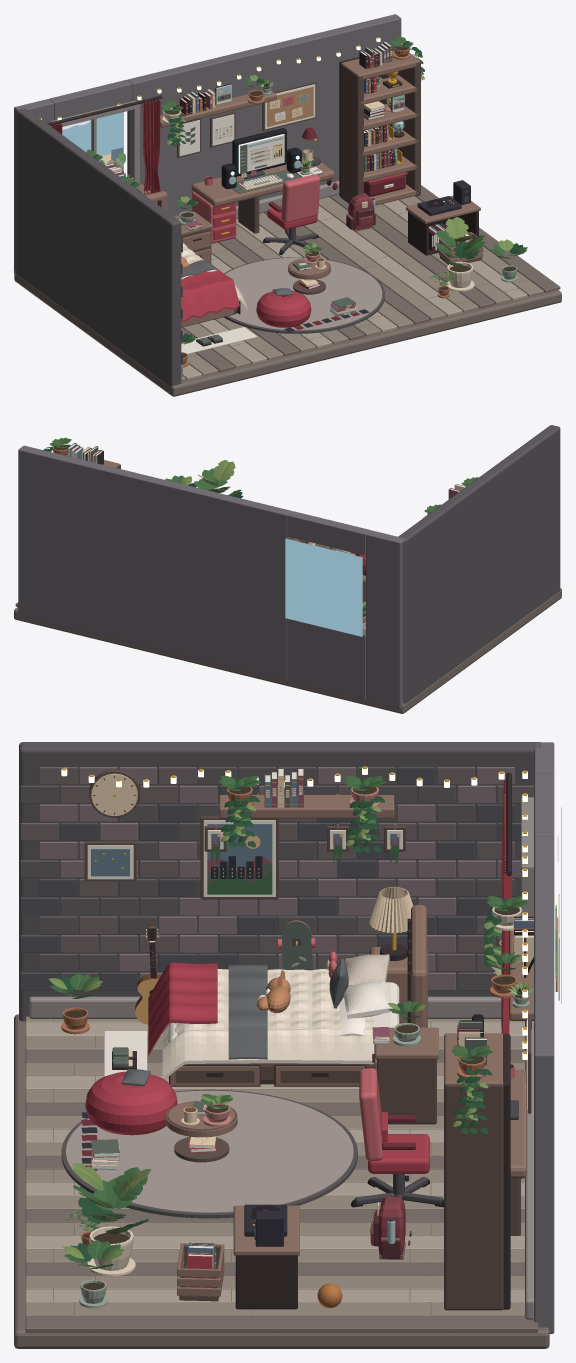
File: urbano-room.glb
The picture shows the model from 3 angles, top to bottom: view 1: azimuth 30°, elevation 25°; view 2: azimuth 150°, elevation 25°; view 3: azimuth 270°, elevation 25°; orthographic projection. The views are drawn at different scales.
Parts seen in each view (by area): view 1: room_MAT_WALL_SHADOW, room_MAT_WALL, room_MAT_FLOOR_DARK, room_MAT_FLOOR, room_MAT_OAK_LIGHT, room_MAT_OAK, room_MAT_FLOOR_LIGHT, room_MAT_RUG_CREAM, room_MAT_TEXTILE_ROSE, room_MAT_PAPER, room_MAT_PINK, room_MAT_OAK_DARK (+23 smaller); view 2: room_MAT_WALL, room_MAT_WALL_SHADOW, room_MAT_EXTERIOR_UNLIT_MAT_OUTDOOR_SKY, room_MAT_FLOOR_DARK, room_MAT_BOT_LEAF, room_MAT_BOT_LEAF_LIME; view 3: room_MAT_FLOOR_DARK, room_MAT_FLOOR, room_MAT_WALL_SHADOW, room_MAT_OAK, room_MAT_URBAN_BRICK_3, room_MAT_URBAN_BRICK_0, room_MAT_RUG_CREAM, room_MAT_OAK_LIGHT, room_MAT_URBAN_BRICK_1, room_MAT_URBAN_BRICK_2, room_MAT_FLOOR_LIGHT, room_MAT_WALL (+30 smaller).
Boxes of the visible parts, box(x1,y1,x2,y2) form: room_MAT_WALL_SHADOW: box(16, 108, 181, 386); room_MAT_WALL: box(14, 14, 401, 272); room_MAT_FLOOR_DARK: box(14, 185, 561, 396); room_MAT_FLOOR: box(181, 196, 543, 381); room_MAT_OAK_LIGHT: box(129, 50, 483, 326); room_MAT_OAK: box(177, 54, 481, 327); room_MAT_FLOOR_LIGHT: box(183, 200, 527, 380); room_MAT_RUG_CREAM: box(225, 257, 382, 330); room_MAT_TEXTILE_ROSE: box(181, 269, 311, 327); room_MAT_PAPER: box(105, 42, 468, 315); room_MAT_PINK: box(51, 51, 472, 289); room_MAT_OAK_DARK: box(47, 48, 478, 346); room_MAT_WALL: box(18, 445, 404, 708); room_MAT_WALL_SHADOW: box(397, 425, 560, 703); room_MAT_EXTERIOR_UNLIT_MAT_OUTDOOR_SKY: box(285, 538, 362, 636); room_MAT_FLOOR_DARK: box(14, 588, 561, 713); room_MAT_BOT_LEAF: box(45, 437, 478, 613); room_MAT_BOT_LEAF_LIME: box(181, 460, 365, 613); room_MAT_FLOOR_DARK: box(14, 1014, 549, 1348); room_MAT_FLOOR: box(25, 1016, 524, 1315); room_MAT_WALL_SHADOW: box(19, 742, 540, 1021); room_MAT_OAK: box(84, 769, 531, 1310); room_MAT_URBAN_BRICK_3: box(39, 767, 520, 990); room_MAT_URBAN_BRICK_0: box(20, 767, 514, 990); room_MAT_RUG_CREAM: box(66, 1090, 353, 1212); room_MAT_OAK_LIGHT: box(165, 793, 533, 1296); room_MAT_URBAN_BRICK_1: box(20, 767, 533, 971); room_MAT_URBAN_BRICK_2: box(20, 767, 520, 990); room_MAT_FLOOR_LIGHT: box(25, 1022, 524, 1302); room_MAT_WALL: box(534, 742, 554, 1333).
Size of the model in its own units: 7.57 by 3.2 by 5.47.
